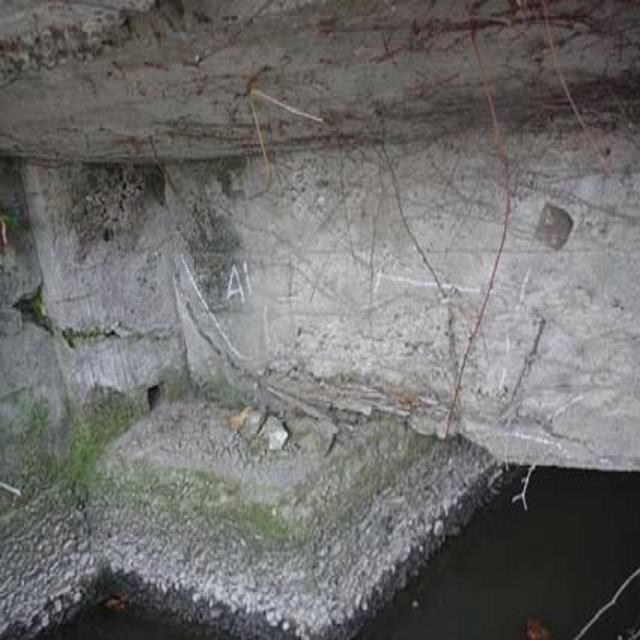spalling: (52, 162, 202, 262)
